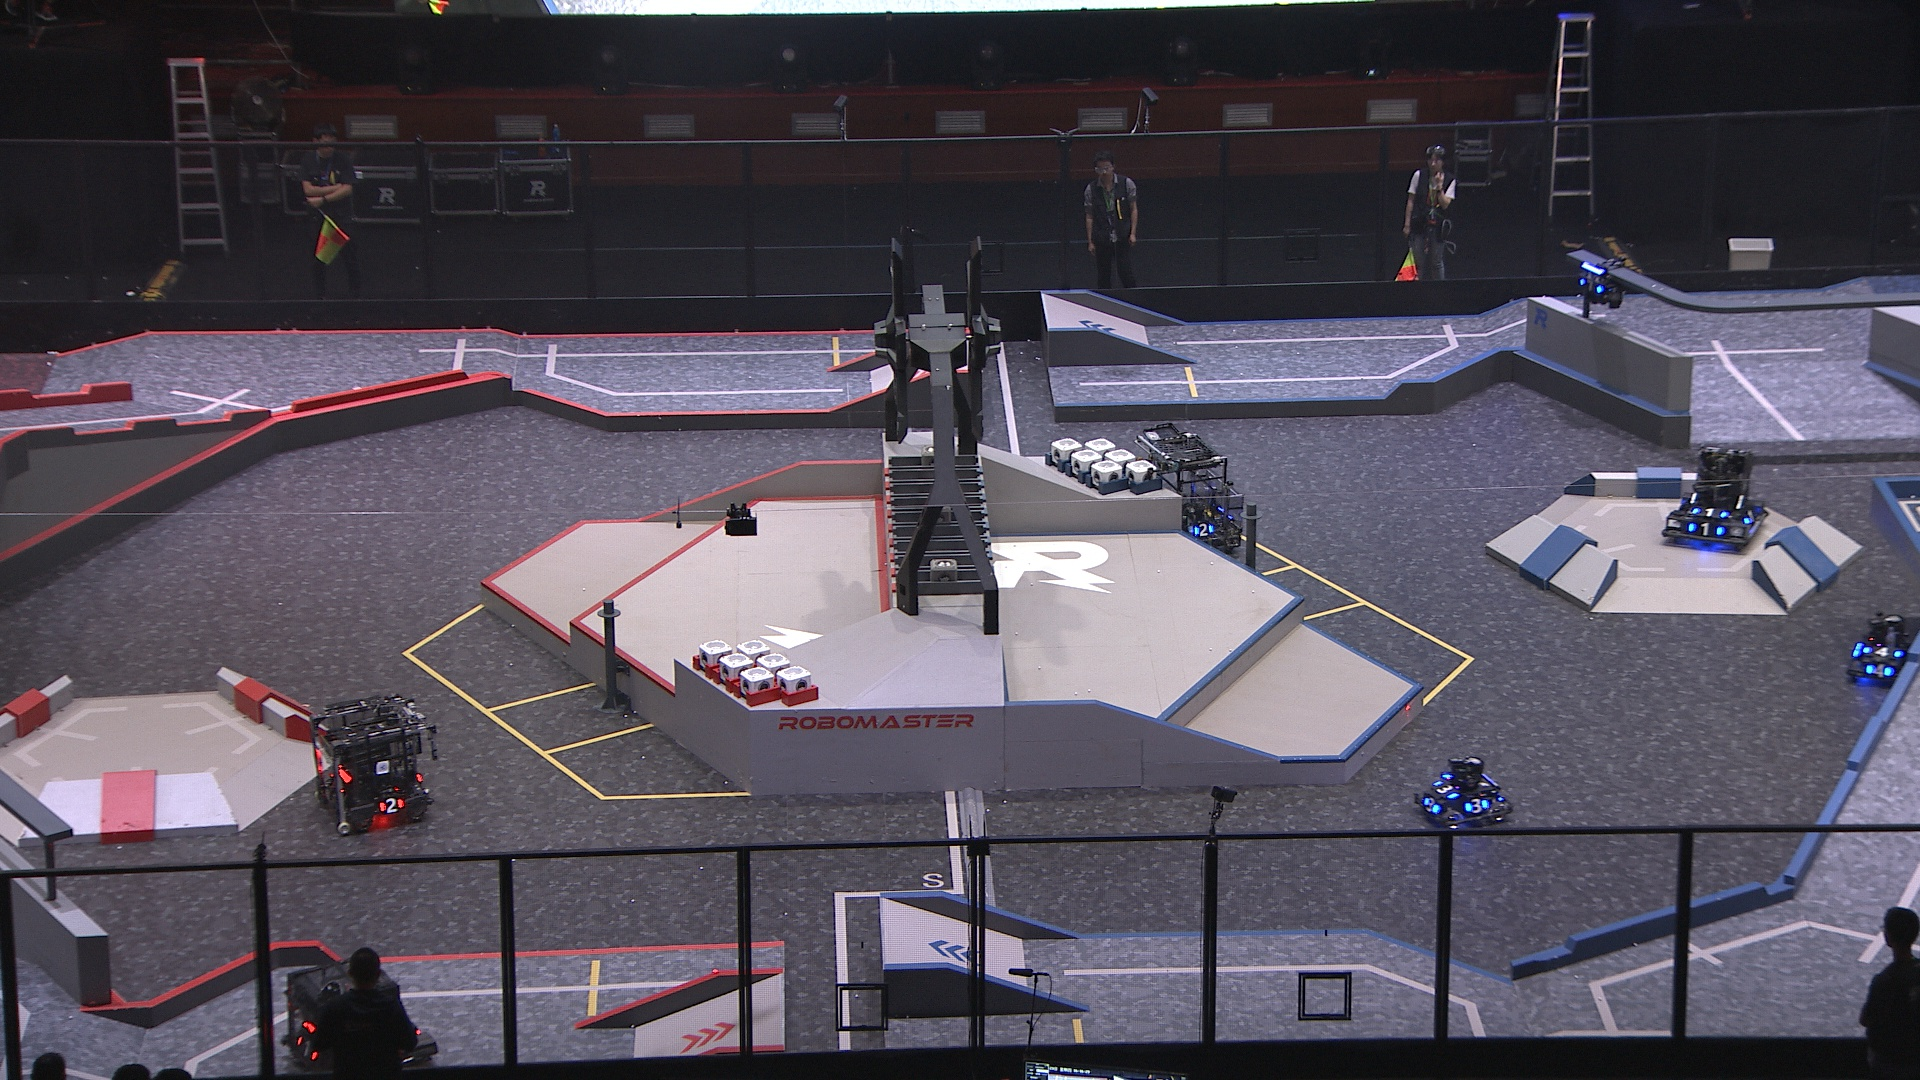armor: (291, 1034, 320, 1062), (1689, 504, 1727, 520), (1575, 276, 1605, 295), (1865, 661, 1894, 680), (378, 793, 405, 814), (1687, 522, 1724, 535), (1432, 778, 1457, 796), (1865, 646, 1899, 659), (1462, 796, 1489, 814), (1424, 794, 1443, 818), (1741, 510, 1759, 527), (1192, 522, 1216, 535)
car: (281, 957, 438, 1080), (305, 692, 430, 833), (1131, 423, 1253, 556), (1662, 440, 1774, 549), (1414, 756, 1510, 835), (1845, 613, 1920, 690)
watcher: (1569, 252, 1631, 309)
